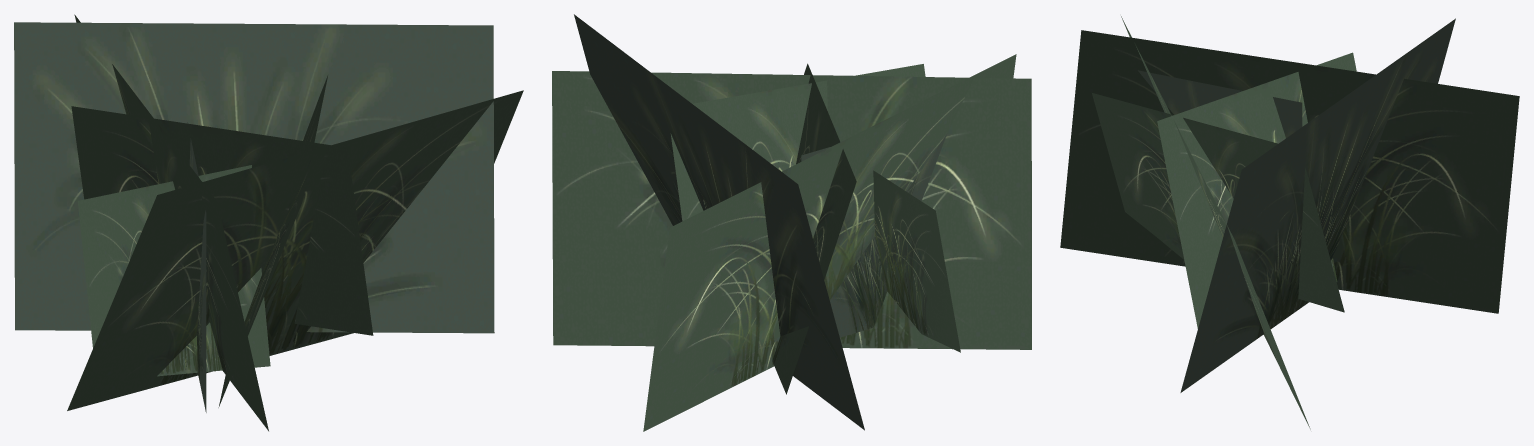
File: grass_01++.FBX
3 views of the same model, side by side, from view 1: azimuth 30°, elevation 25°; view 2: azimuth 150°, elevation 25°; view 3: azimuth 270°, elevation 25° (orthographic). The views are drawn at different scales.
Parts seen in each view (by area): view 1: grass_01; view 2: grass_01; view 3: grass_01.
Boxes of the visible parts, x1,y1,x2,y2 form: grass_01: [14, 14, 523, 431]; grass_01: [552, 14, 1031, 431]; grass_01: [1060, 16, 1519, 429].
Bounding box in the file's own units: 162 × 155 × 100.
